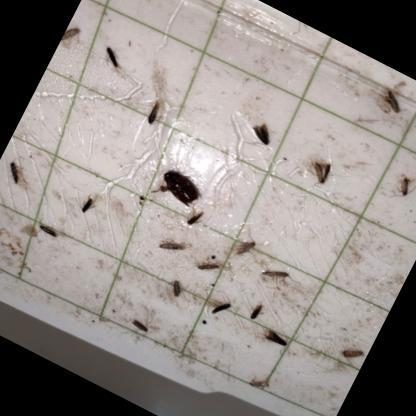prays_oleae: (354, 69, 416, 136), (0, 137, 45, 211), (232, 106, 287, 164), (128, 84, 178, 146), (251, 252, 302, 299), (255, 317, 302, 368), (147, 222, 193, 271), (378, 164, 416, 223), (294, 152, 339, 198), (183, 244, 228, 287), (69, 178, 109, 226), (30, 213, 70, 251), (90, 43, 128, 82), (204, 285, 240, 326), (158, 266, 194, 307), (54, 22, 90, 62), (122, 310, 162, 345), (285, 18, 326, 50), (336, 337, 370, 373), (178, 206, 210, 242), (223, 231, 257, 264), (238, 296, 269, 332)
